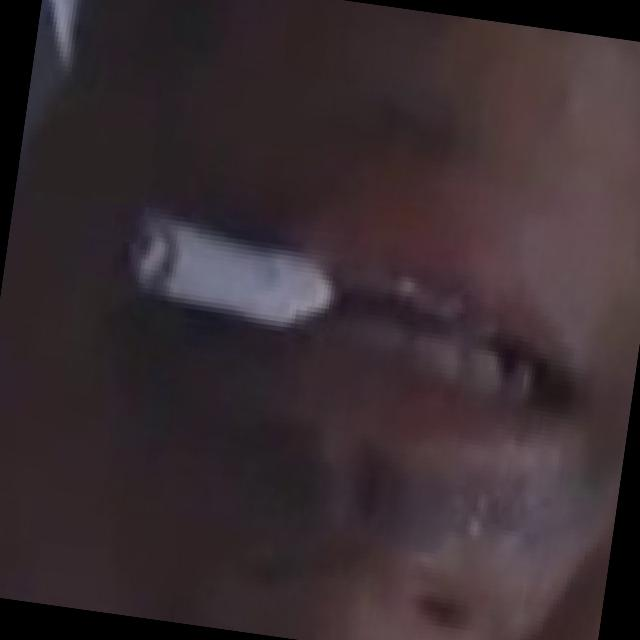cigarette: (121, 214, 307, 332)
